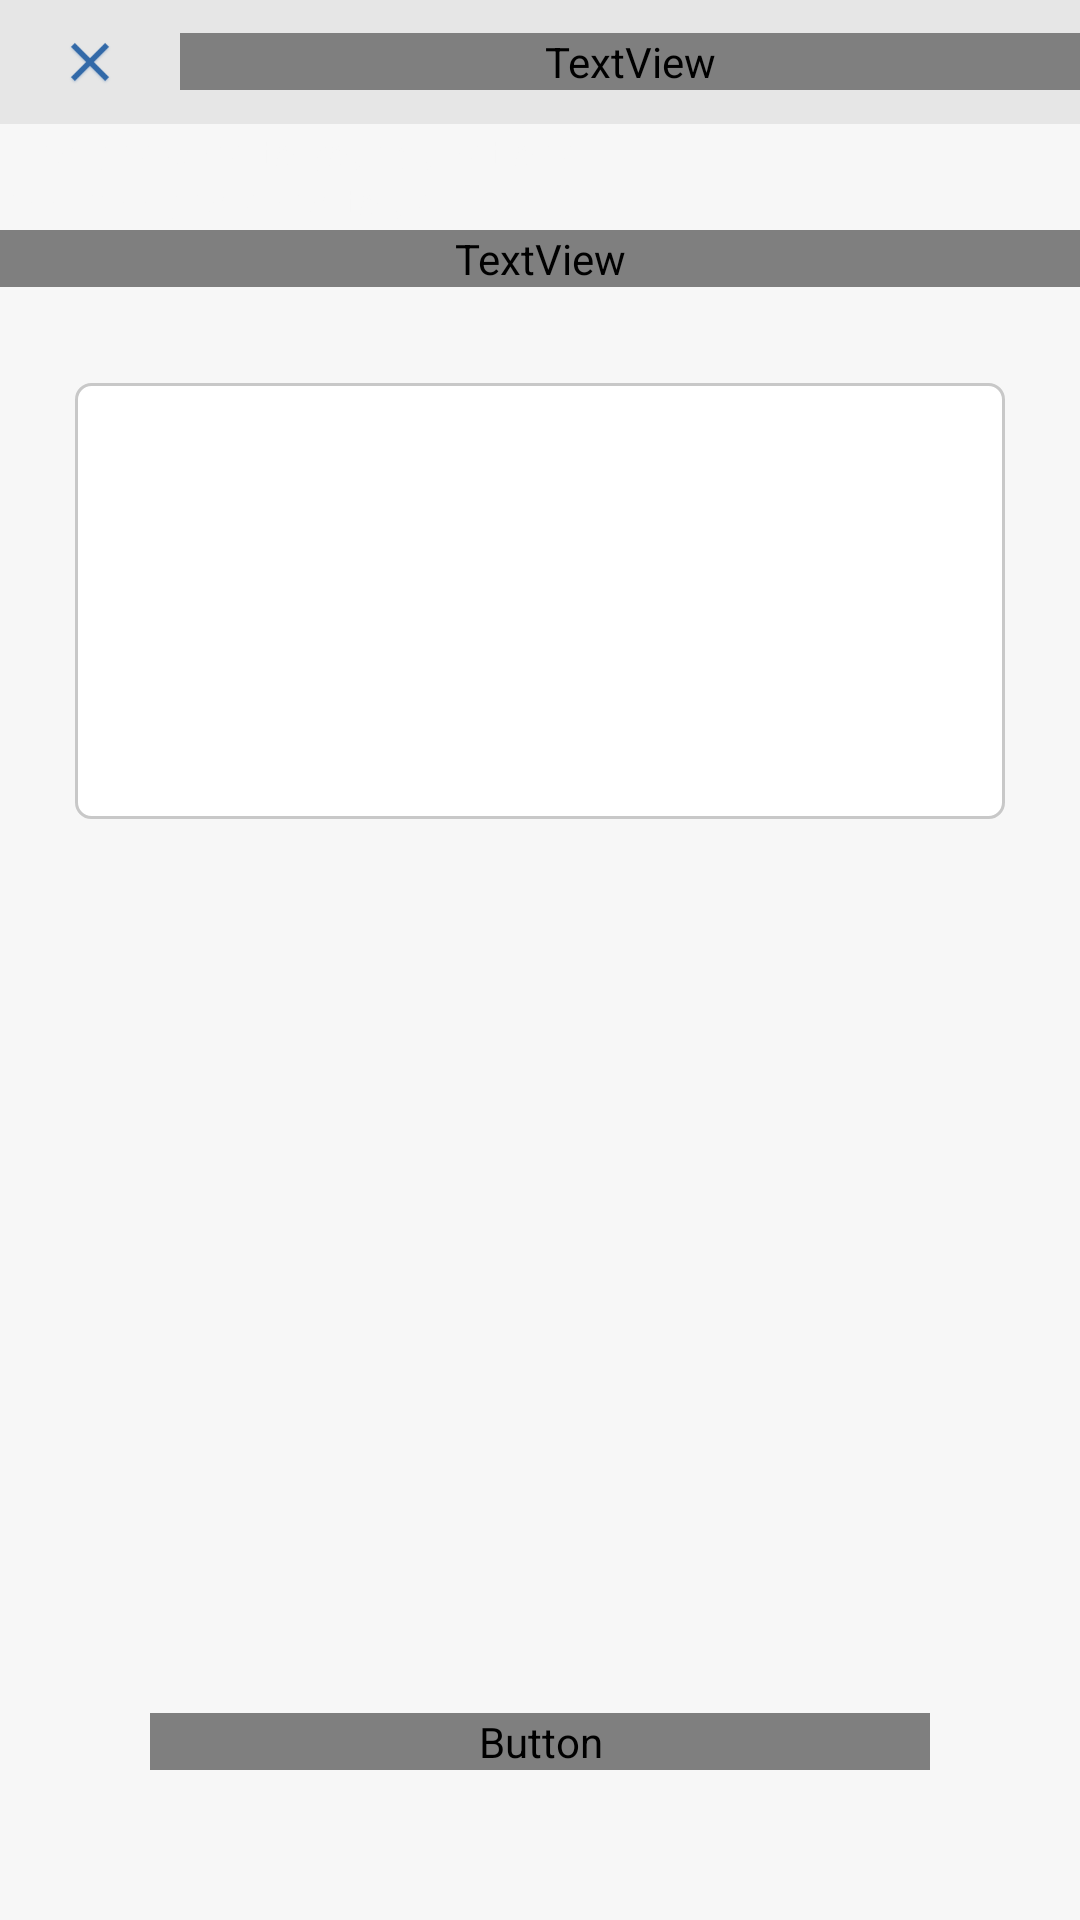

Icons on this 1080w x 1920h Android screen, each with the point to tap as (x=x, y=y):
close: (x=90, y=62)
